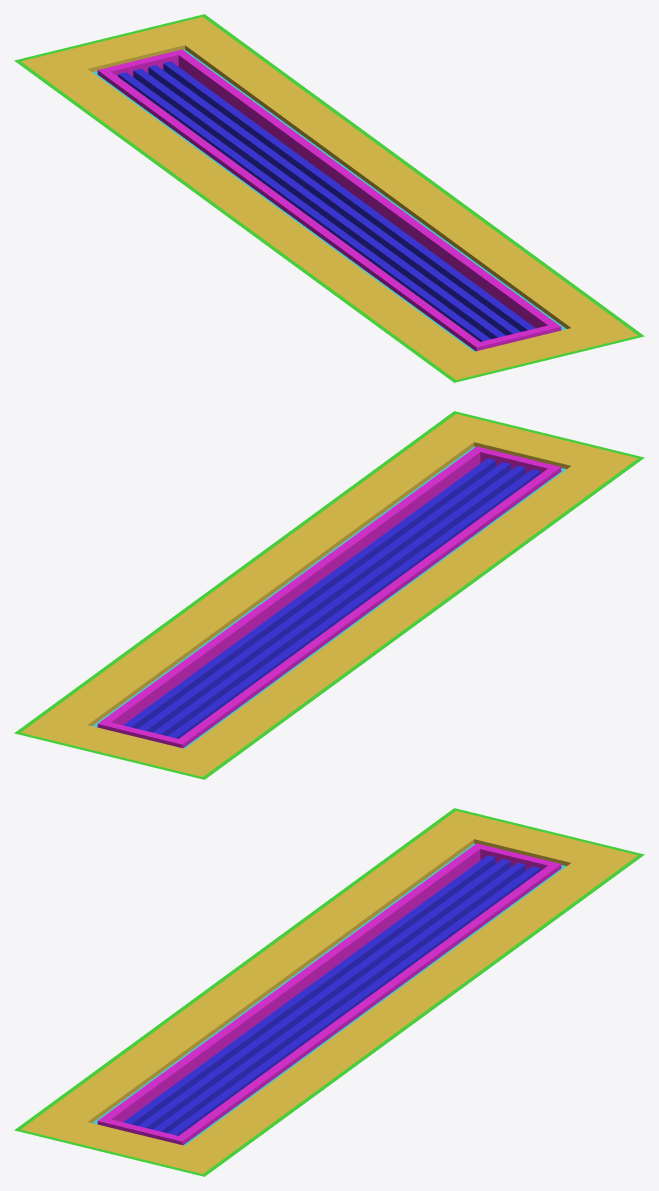
The model's file is Floor_013_C_02.fbx.
3 renders of one model, top to bottom at view 1: azimuth 30°, elevation 25°; view 2: azimuth 150°, elevation 25°; view 3: azimuth 330°, elevation 25°, orthographic.
Parts seen in each view (by area): view 1: Floor_013_C_02; view 2: Floor_013_C_02; view 3: Floor_013_C_02.
Part boxes in pixels (box(x1,y1,x2,y2)): Floor_013_C_02: box(14, 14, 644, 382); Floor_013_C_02: box(14, 411, 644, 779); Floor_013_C_02: box(14, 808, 644, 1176).
Bounding box in the file's own units: 114 × 7.62 × 457.
